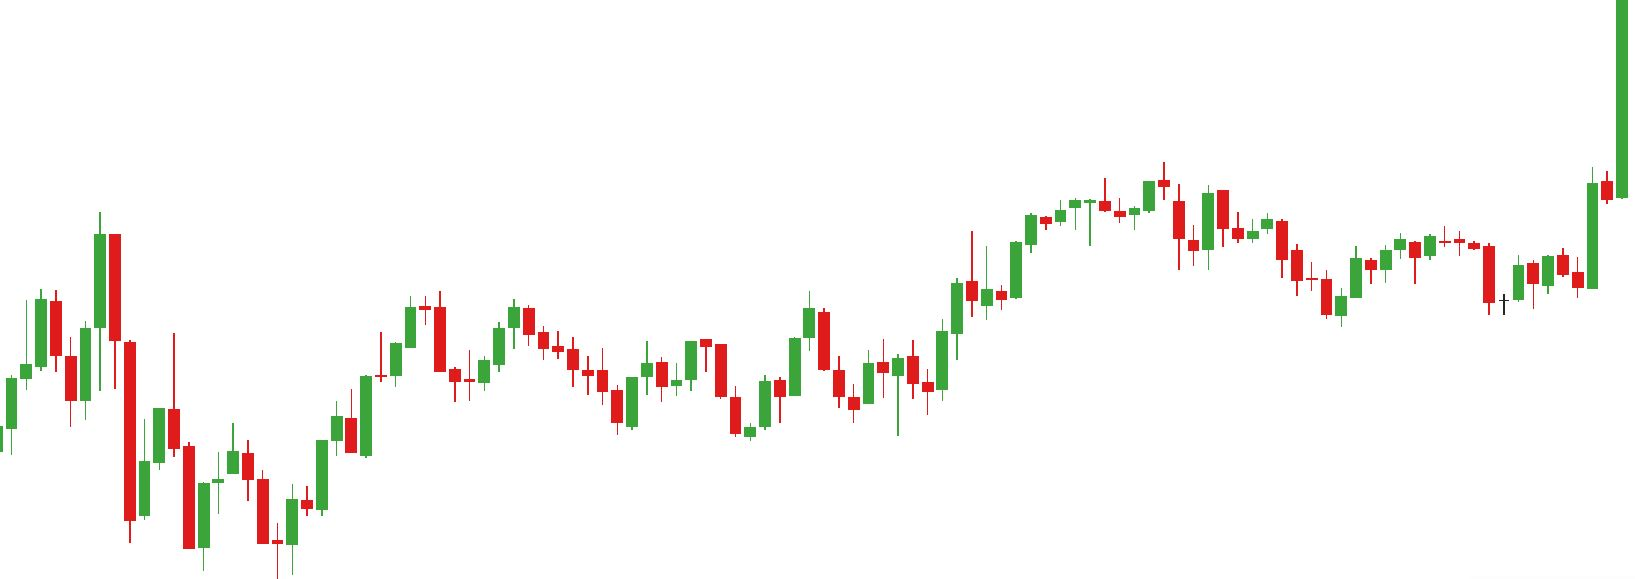buy: (119, 393, 213, 575), (610, 357, 773, 442), (1407, 236, 1526, 319)
sell: (17, 202, 124, 371), (1098, 152, 1171, 216)
